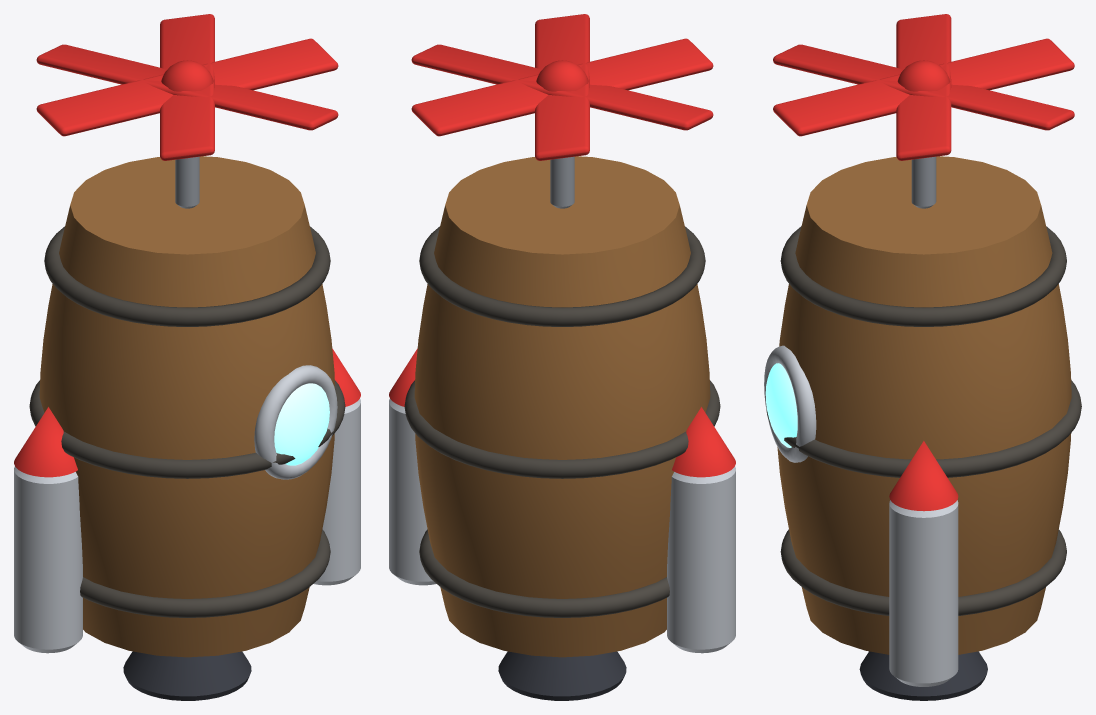
The model's file is Rocket_06_BarrelCopter.fbx.
The picture shows the model from 3 angles, left to right: view 1: azimuth 30°, elevation 25°; view 2: azimuth 150°, elevation 25°; view 3: azimuth 270°, elevation 25°; orthographic projection.
Parts seen in each view (by area): view 1: R06_Body, R06_SideThruster_2, R06_Blade, R06_Hoop_2, R06_Blade_2, R06_Blade_3, R06_SideThruster, R06_Hoop, R06_HoopMid, R06_Nozzle, R06_WindowFrame, R06_Window (+4 smaller); view 2: R06_Body, R06_SideThruster_2, R06_Blade_3, R06_Hoop_2, R06_HoopMid, R06_Blade, R06_Blade_2, R06_SideThruster, R06_Hoop, R06_Nozzle, R06_ThrusterTip_2, R06_Hub (+2 smaller); view 3: R06_Body, R06_SideThruster, R06_Blade_2, R06_Hoop_2, R06_Blade, R06_Blade_3, R06_HoopMid, R06_Hoop, R06_Nozzle, R06_ThrusterTip, R06_WindowFrame, R06_Window (+2 smaller).
Part boxes in pixels (x1,y1,x2,y2): R06_Body: (39,156,334,657); R06_SideThruster_2: (14,466,82,653); R06_Blade: (36,38,338,136); R06_Hoop_2: (44,226,330,326); R06_Blade_2: (36,44,338,130); R06_Blade_3: (160,14,214,160); R06_SideThruster: (313,399,360,585); R06_Hoop: (80,529,330,617); R06_HoopMid: (29,380,345,478); R06_Nozzle: (123,651,251,700); R06_WindowFrame: (254,365,337,479); R06_Window: (274,383,329,465); R06_Body: (414,156,710,657); R06_SideThruster_2: (667,466,735,653); R06_Blade_3: (411,38,713,136); R06_Hoop_2: (419,226,705,326); R06_HoopMid: (404,380,720,478); R06_Blade: (411,44,713,130); R06_Blade_2: (535,14,589,160); R06_SideThruster: (389,399,436,585); R06_Hoop: (419,529,669,617); R06_Nozzle: (498,651,626,700); R06_ThrusterTip_2: (672,407,735,477); R06_Hub: (536,60,588,91); R06_Body: (777,156,1071,654); R06_SideThruster: (889,500,958,686); R06_Blade_2: (773,38,1074,136); R06_Hoop_2: (780,226,1066,326); R06_Blade: (896,14,951,160); R06_Blade_3: (773,44,1074,130); R06_HoopMid: (766,380,1081,477); R06_Hoop: (780,529,1066,615); R06_Nozzle: (859,651,987,700); R06_ThrusterTip: (889,441,958,511); R06_WindowFrame: (764,345,816,462); R06_Window: (765,363,797,447).
Bounding box in the file's own units: 3.16 × 5.47 × 2.57.
